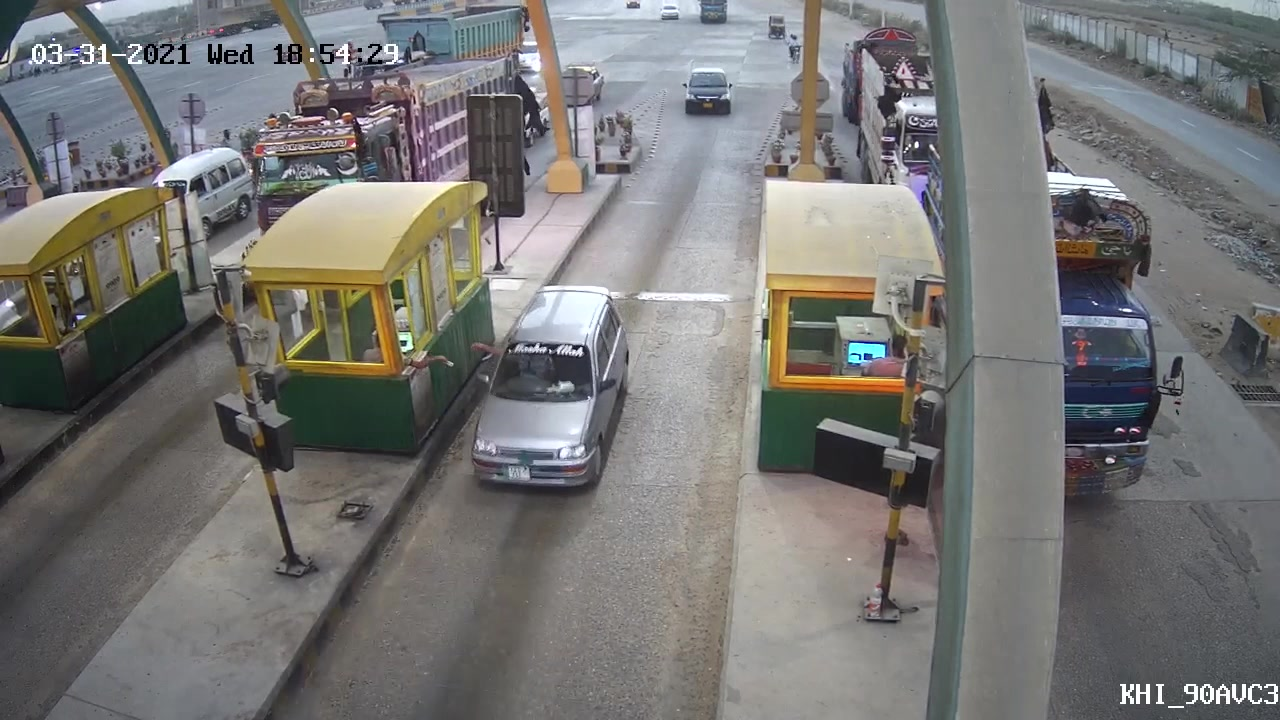F1: (468, 280, 632, 498)
